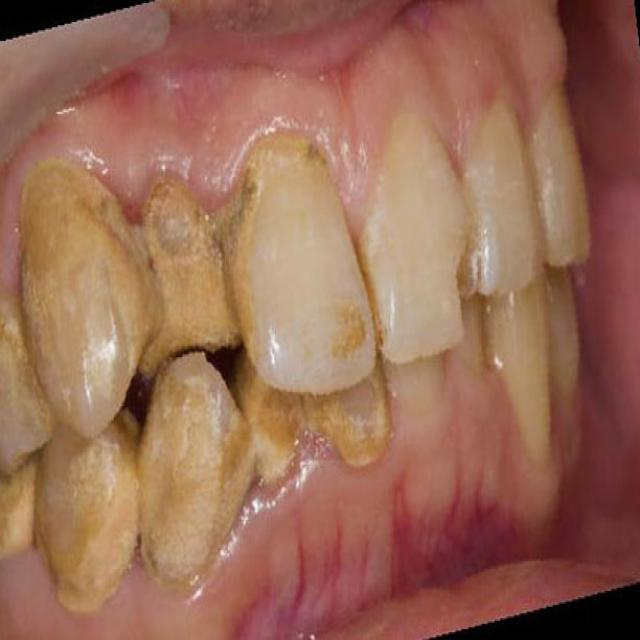caries: (448, 231, 497, 320)
